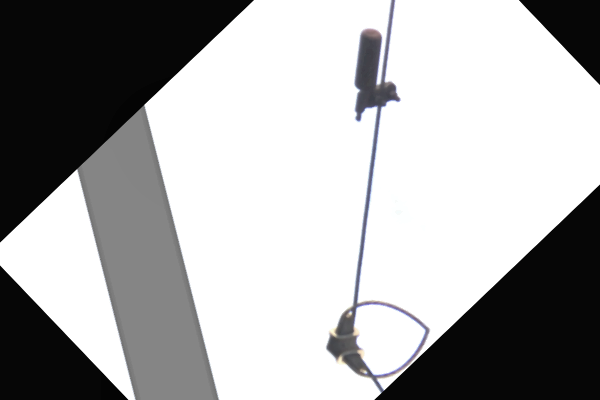damper_defect: (349, 25, 403, 125)
